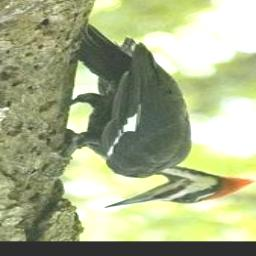Woodpecker: (61, 24, 256, 208)
